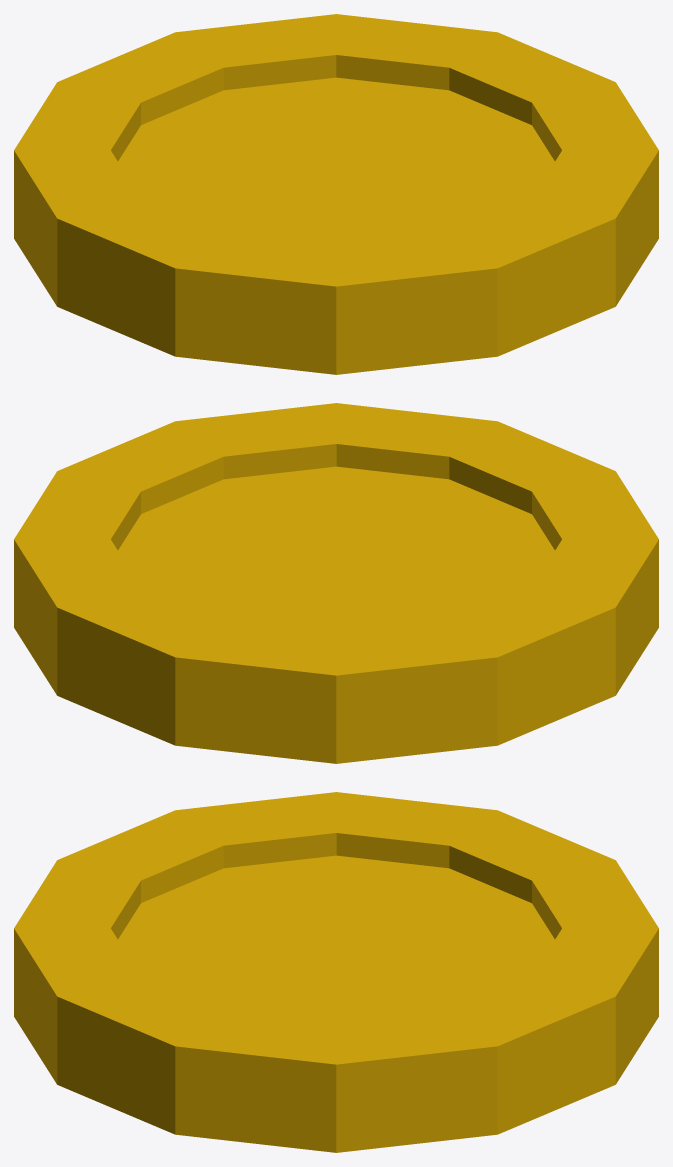
The model's file is Gold.fbx.
3 renders of one model, top to bottom at view 1: azimuth 30°, elevation 25°; view 2: azimuth 150°, elevation 25°; view 3: azimuth 270°, elevation 25°, orthographic.
Parts seen in each view (by area): view 1: Coin; view 2: Coin; view 3: Coin.
Boxes of the visible parts, x1,y1,x2,y2 form: Coin: [14, 14, 658, 374]; Coin: [14, 403, 658, 763]; Coin: [14, 792, 658, 1152].
Size of the model in its own units: 200 by 30.22 by 200.
